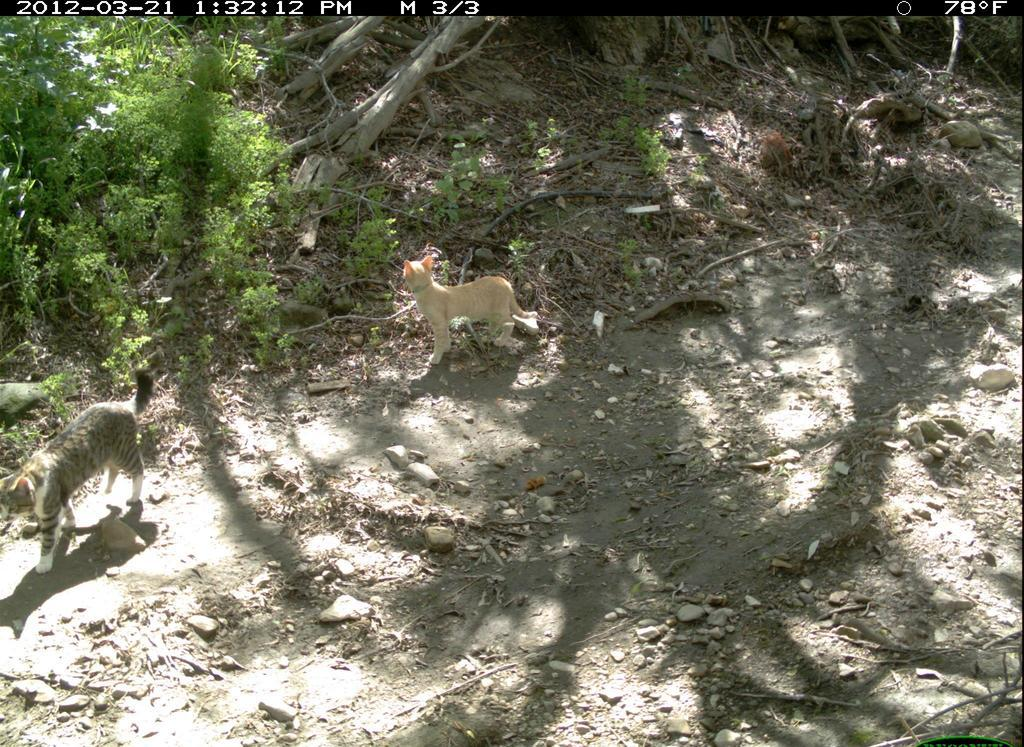cat: (1, 358, 167, 583), (370, 210, 562, 378)
